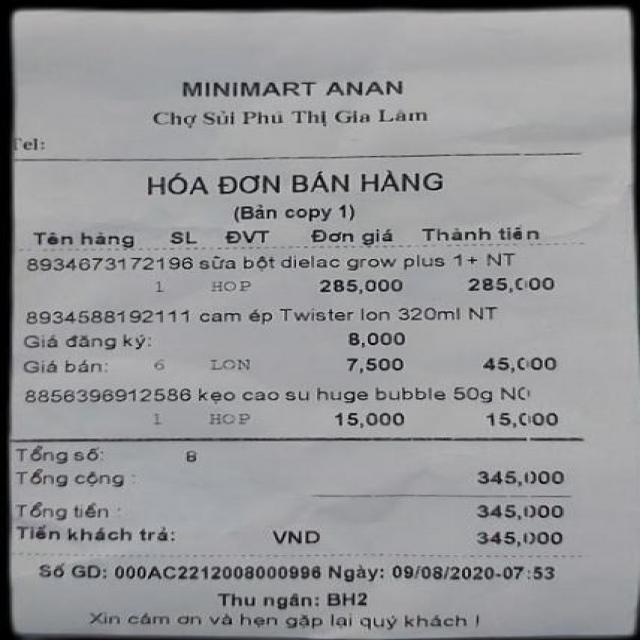Date: (388, 558, 498, 586)
Store_Name: (168, 67, 426, 105)
amount_number: (470, 459, 581, 488)
label_total: (11, 464, 152, 493)
